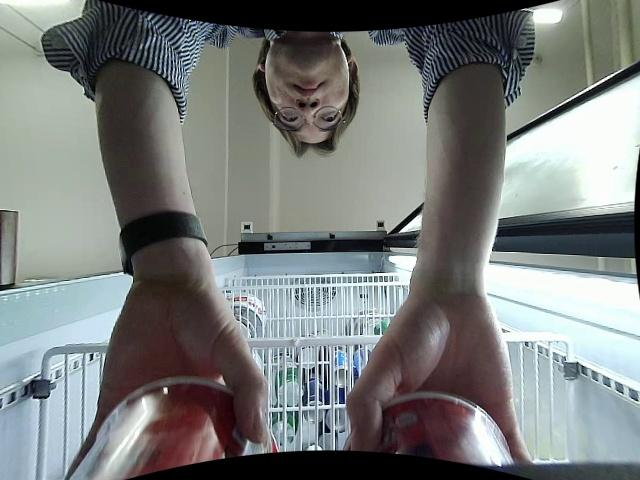00_hand: (65, 285, 269, 480), (345, 291, 533, 469)
02_shinRamen_S: (75, 378, 277, 480), (344, 389, 518, 469)
